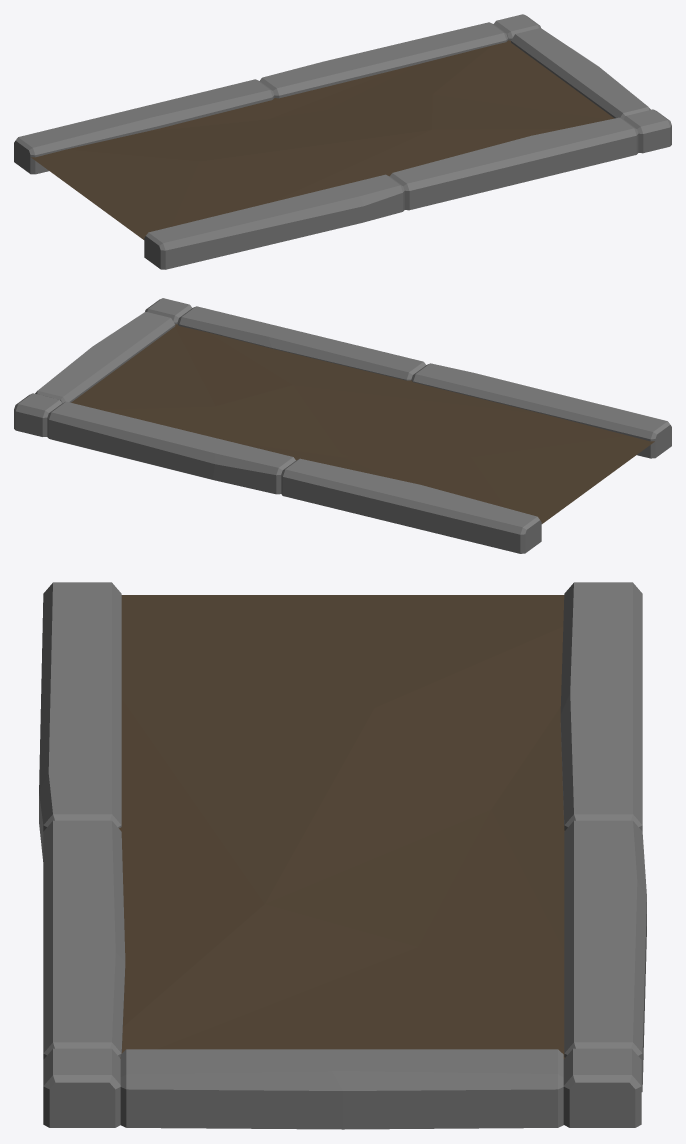
The model's file is SM_Envr_Road_Sidewalk_Median_Soil_03.fbx.
The picture shows the model from 3 angles, top to bottom: view 1: azimuth 30°, elevation 25°; view 2: azimuth 150°, elevation 25°; view 3: azimuth 270°, elevation 25°; orthographic projection. The views are drawn at different scales.
Parts seen in each view (by area): view 1: SM_Envr_Road_Sidewalk_Median_Soil_03; view 2: SM_Envr_Road_Sidewalk_Median_Soil_03; view 3: SM_Envr_Road_Sidewalk_Median_Soil_03.
Boxes of the visible parts, <box> form: SM_Envr_Road_Sidewalk_Median_Soil_03: <box>14,14,671,269</box>; SM_Envr_Road_Sidewalk_Median_Soil_03: <box>14,298,671,553</box>; SM_Envr_Road_Sidewalk_Median_Soil_03: <box>39,582,646,1129</box>.
Size of the model in its own units: 505 by 25.53 by 259.
